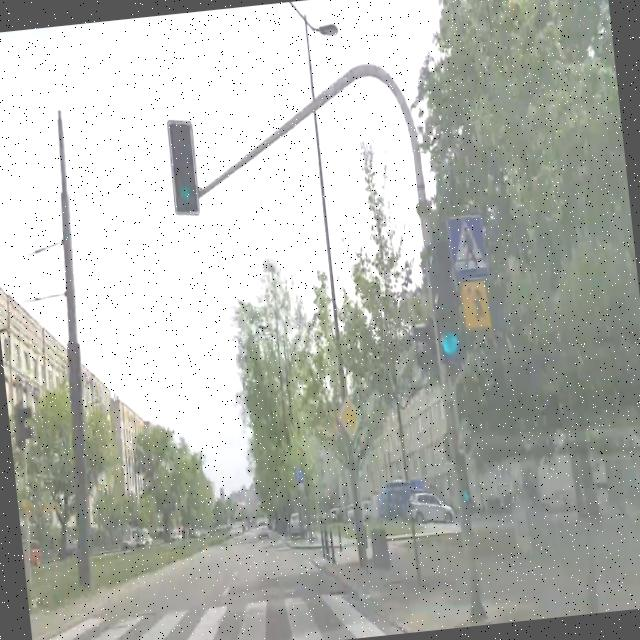Droga z pierwszenstwem: (336, 393, 362, 441)
Przejscie dla pieszych: (448, 212, 488, 280)
